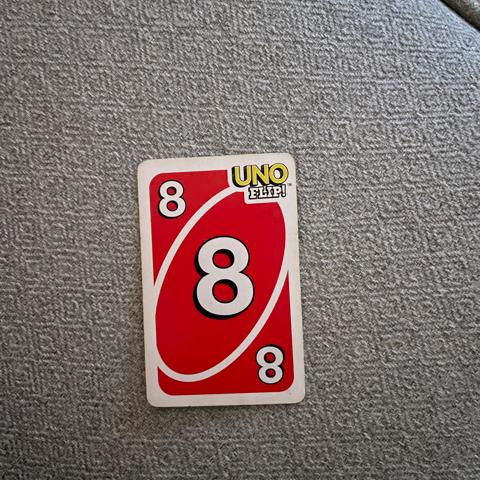lred-8: (147, 170, 201, 227)
